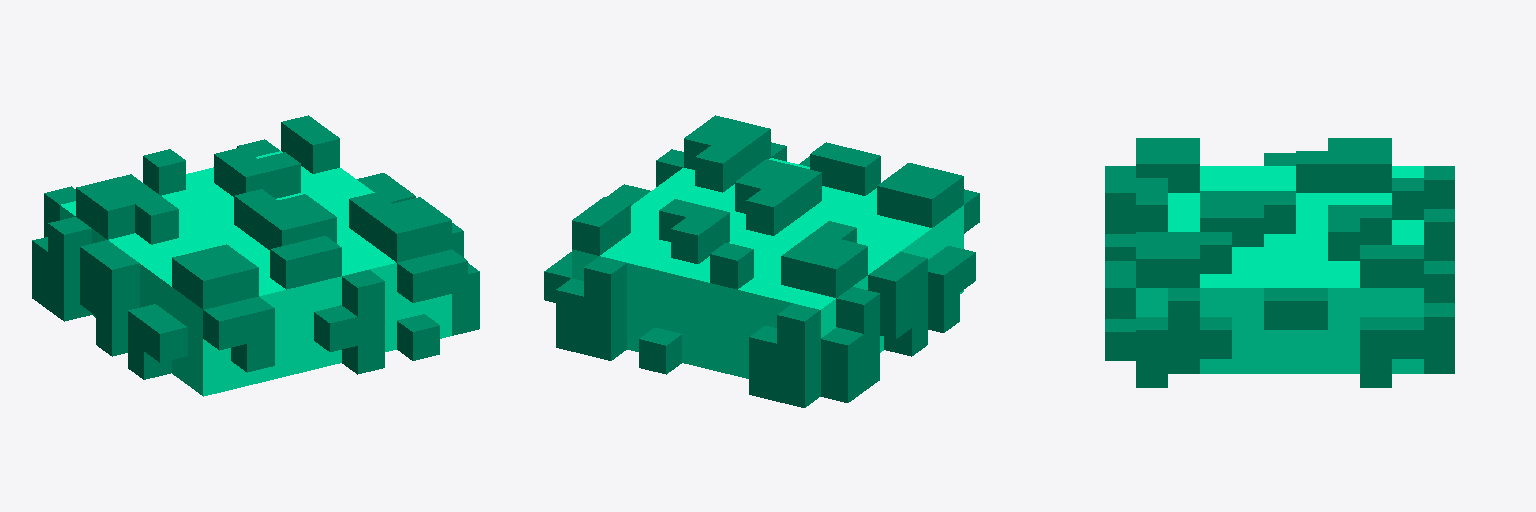
3 views of the same model, side by side, from view 1: azimuth 30°, elevation 25°; view 2: azimuth 150°, elevation 25°; view 3: azimuth 270°, elevation 25° (orthographic).
Size of the model in its own units: 11 by 4 by 11.
1 materials, 1 textured.